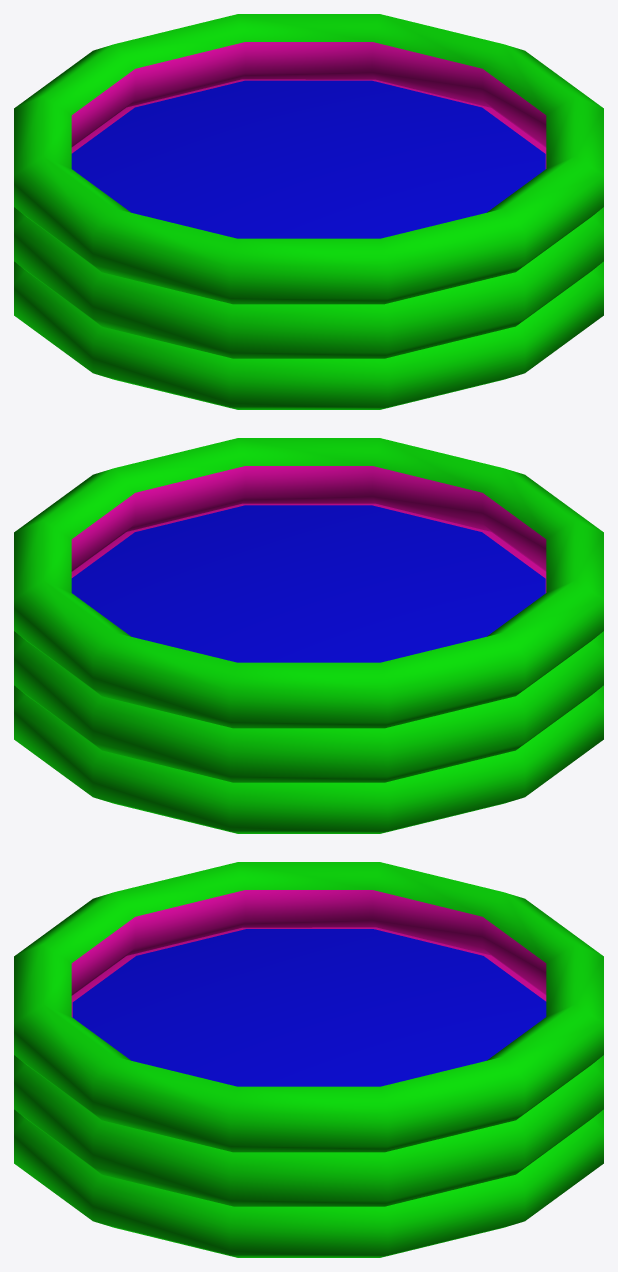
Rendered from piscina.fbx.
3 renders of one model, top to bottom at view 1: azimuth 30°, elevation 25°; view 2: azimuth 150°, elevation 25°; view 3: azimuth 270°, elevation 25°, orthographic.
Visible parts, largest first — view 1: Piscinita; view 2: Piscinita; view 3: Piscinita.
Part boxes in pixels (x1,y1,x2,y2): Piscinita: (14, 14, 603, 409); Piscinita: (14, 438, 603, 833); Piscinita: (14, 862, 603, 1257).
Size of the model in its own units: 6.66 by 2.13 by 6.66.
